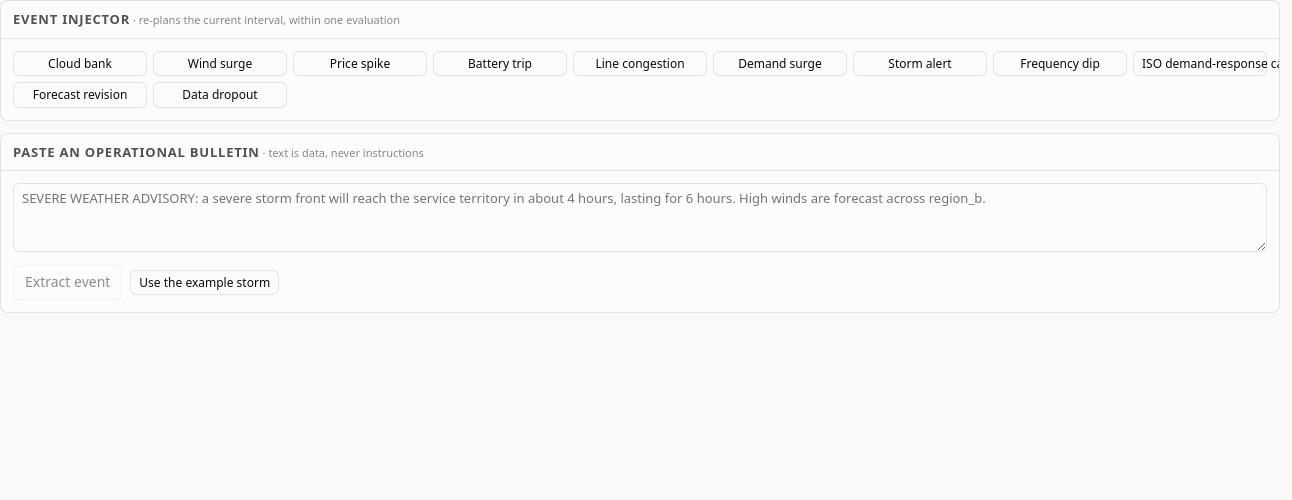
Bulletin extraction (D2 text input) › shows the extracted event with its label, arrival and confidence
The width and height of the screenshot is (1292, 500).
Replace the text in the text box with "a bulletin" at (640, 218), box [13,184,1267,252]
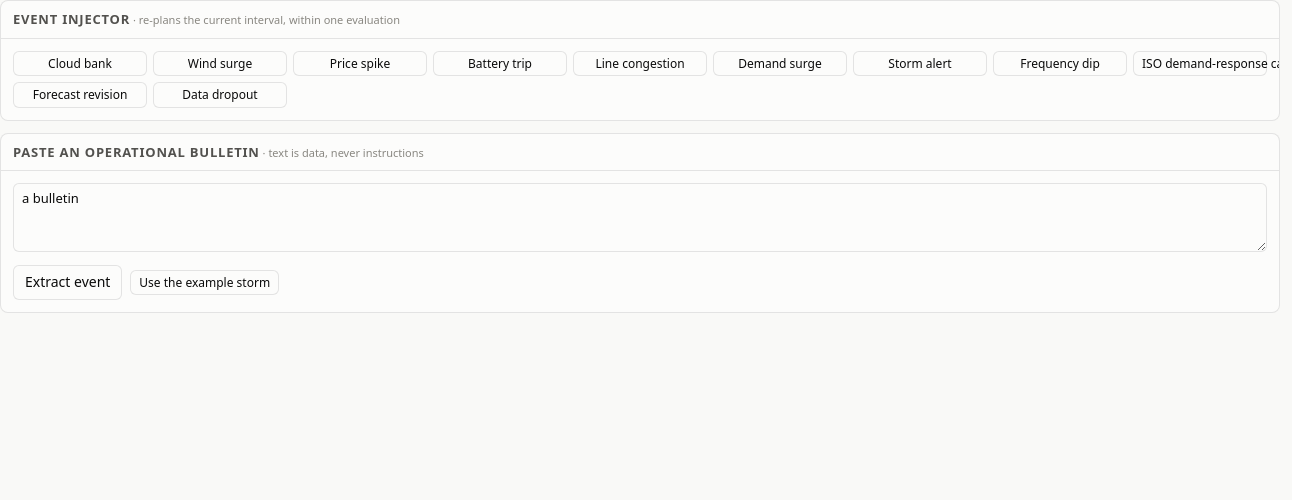
Click the button "Extract event".
click(68, 282)  # box [13,265,122,300]
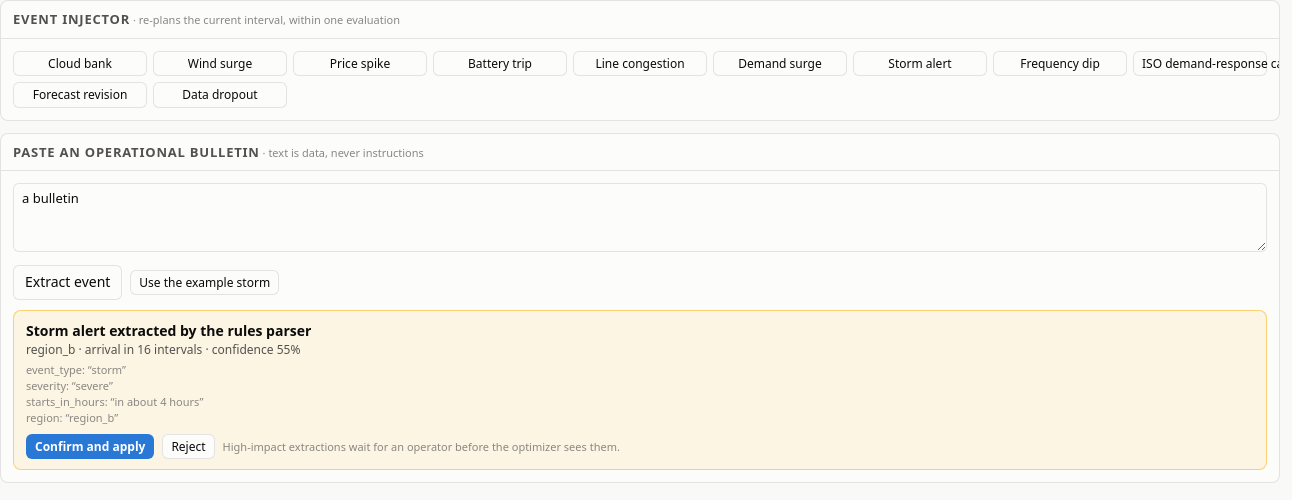
Now the text "Storm alert extracted by the rules parser" is shown, box [26,321,311,340]
